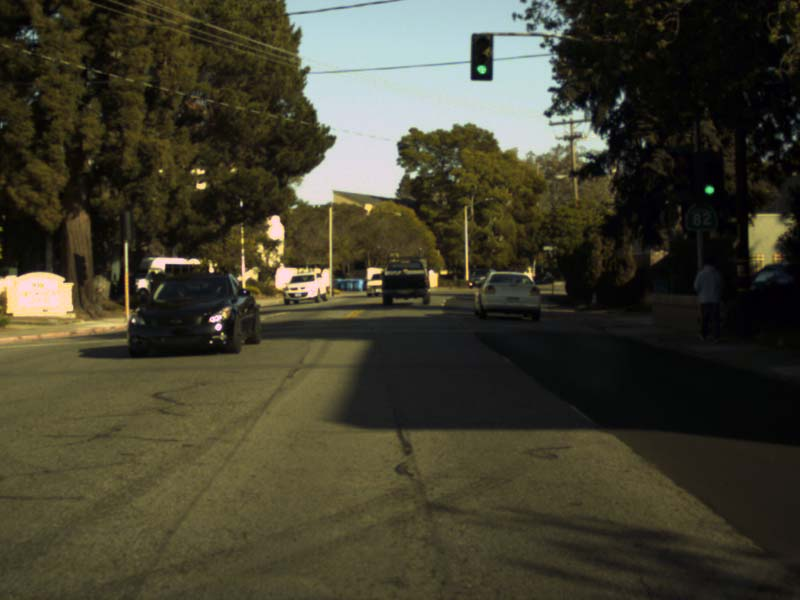Green: (470, 32, 492, 81), (701, 152, 716, 196)
